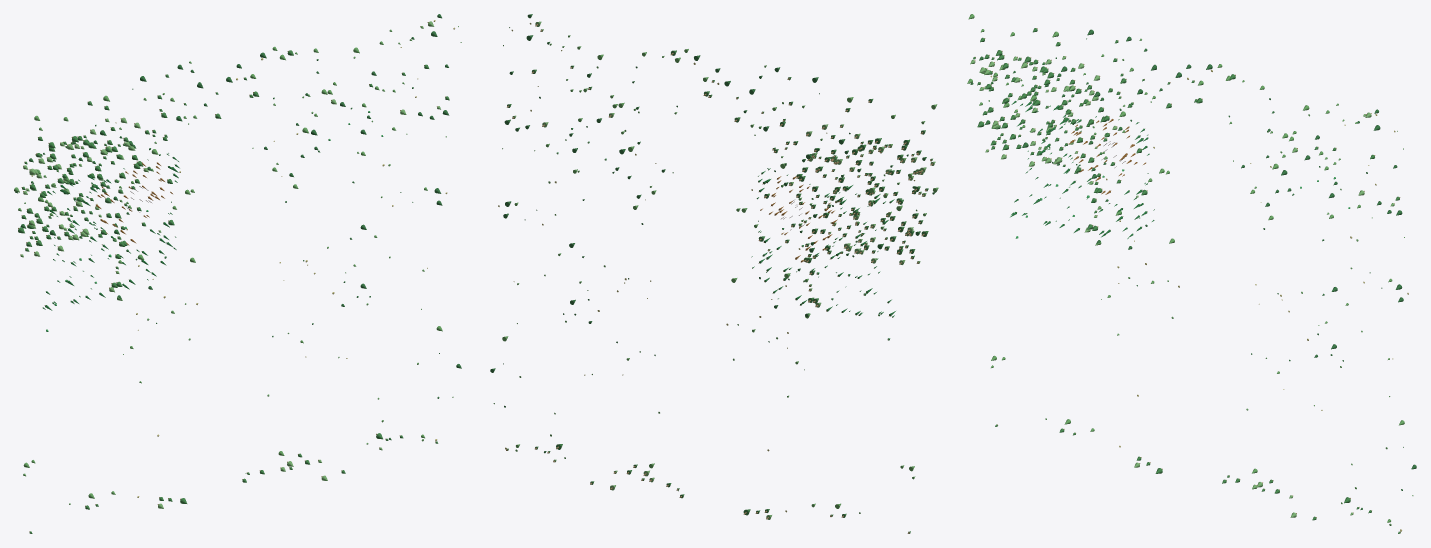
Rendered from compact_forest.glb.
The picture shows the model from 3 angles, left to right: view 1: azimuth 30°, elevation 25°; view 2: azimuth 150°, elevation 25°; view 3: azimuth 330°, elevation 25°; orthographic projection. The views are drawn at different scales.
Size of the model in its own units: 780 by 763 by 92.18.
